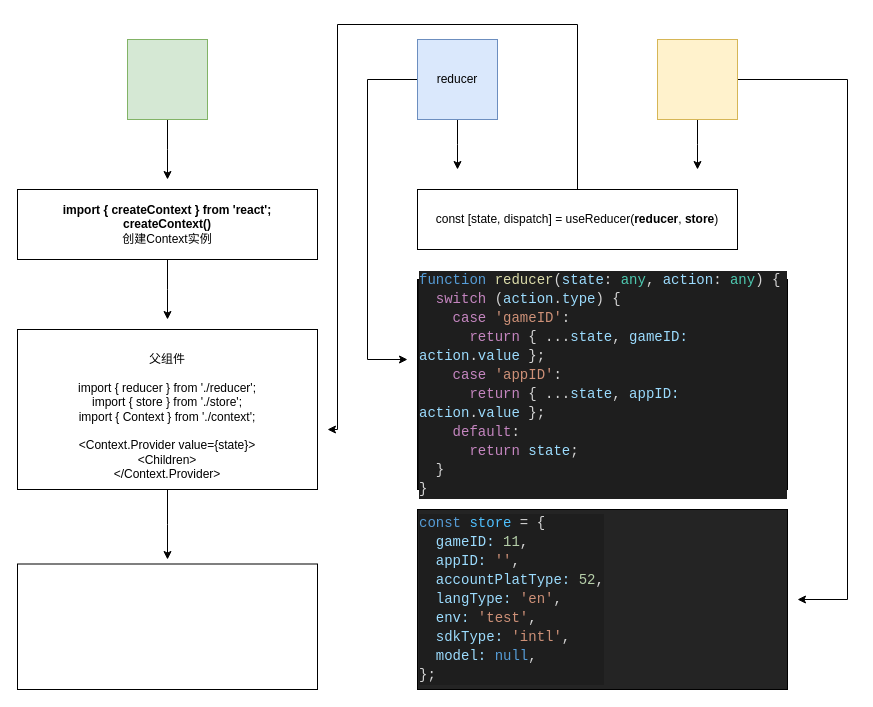
Image size: 873x707. Some labels were removed from this diagram. The shapes that lost their labels are listed below. From the top down, each one's centre as x and y in pixels, then its label:
pixel 167 79: Context
pixel 697 79: store
pixel 167 626: 子组件 import { Context } from './context'; const {state} = useContext(Context);
